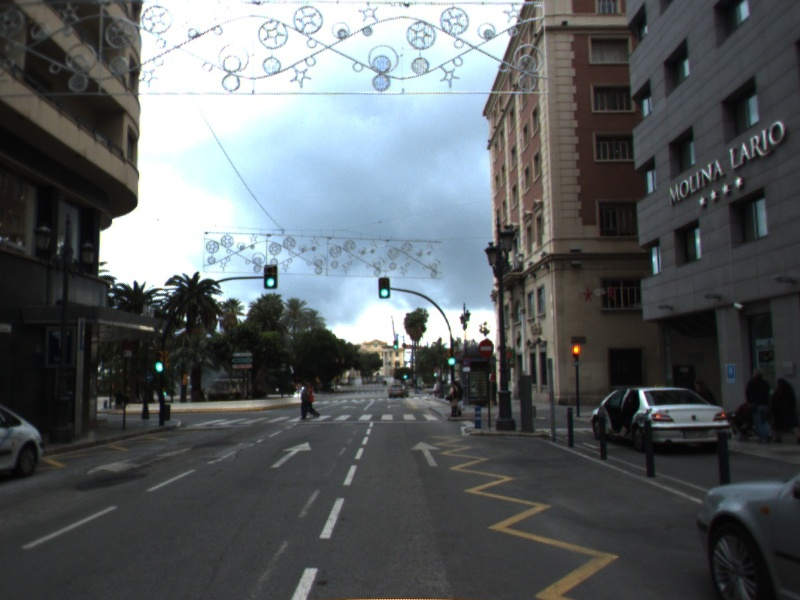STRAIGHT: (268, 440, 314, 470), (408, 439, 443, 469)
STRAIGHT_LEFT: (85, 445, 194, 477)
